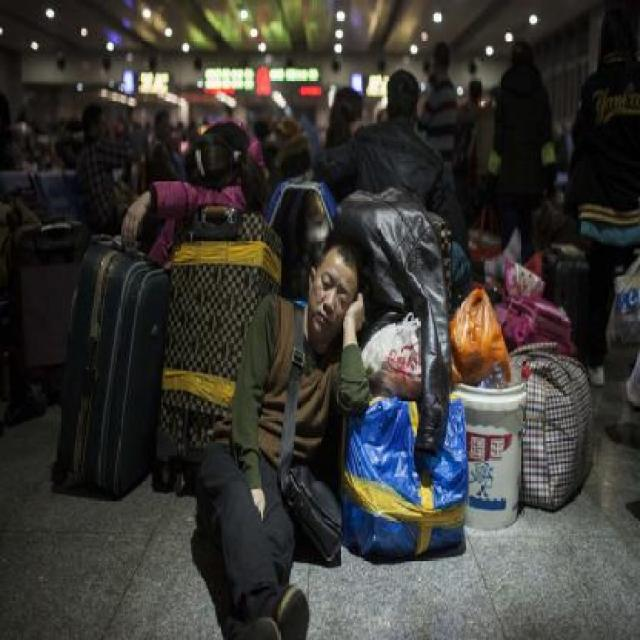fall: (179, 227, 372, 636)
